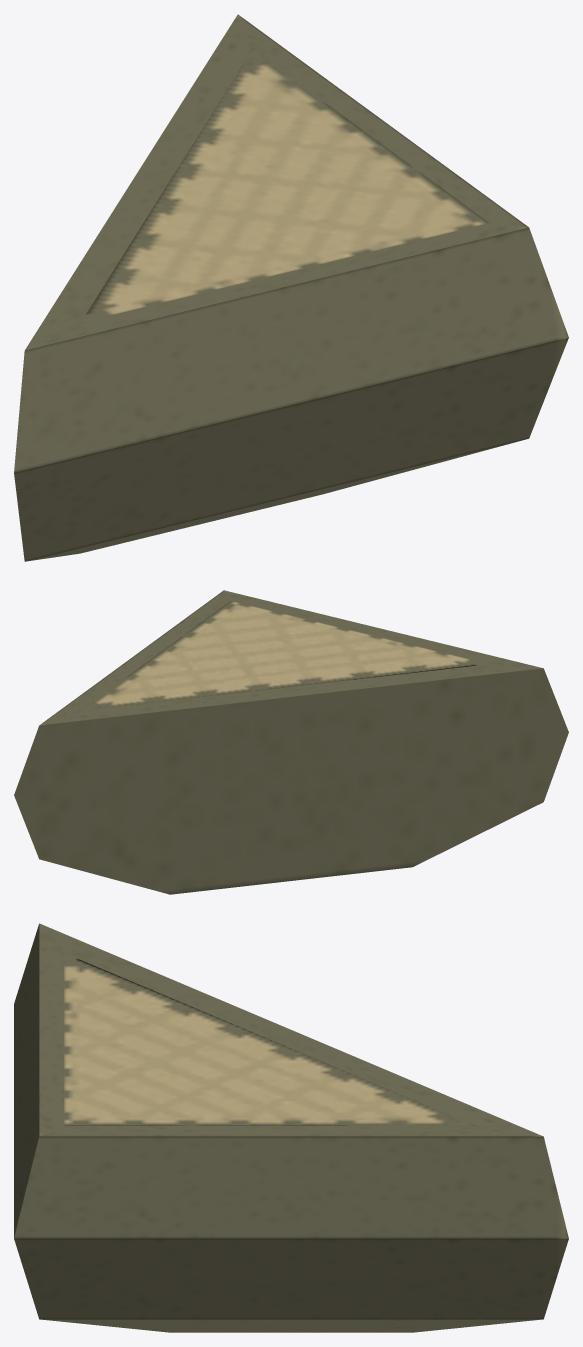
The model's file is Platform_12.fbx.
3 views of the same model, one above another, from view 1: azimuth 30°, elevation 25°; view 2: azimuth 150°, elevation 25°; view 3: azimuth 270°, elevation 25° (orthographic). The views are drawn at different scales.
Visible parts, largest first — view 1: Platform_12; view 2: Platform_12; view 3: Platform_12.
Part boxes in pixels (<box>): Platform_12: <box>14,14,568,561</box>; Platform_12: <box>14,590,568,894</box>; Platform_12: <box>14,923,568,1332</box>.
Size of the model in its own units: 220 by 110 by 220.
Materials: 1 (1 with a texture image).
